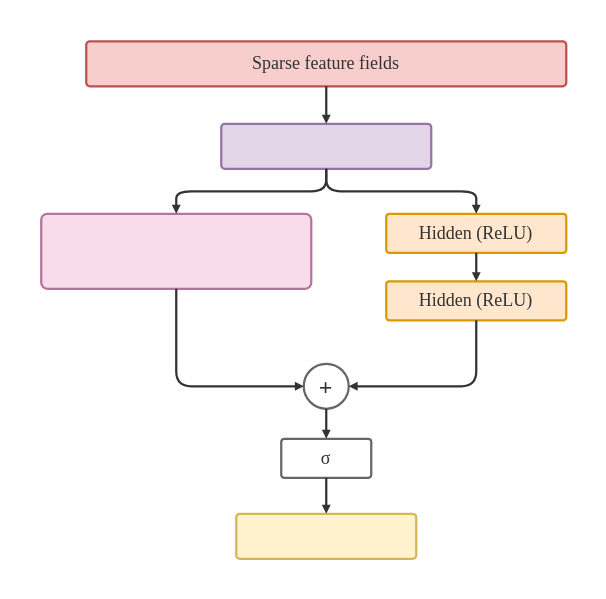
This 606x599 diagram has some shape labels left out. Here are the shapes that lost their labels. From the top down, the centre of each, then its label:
At pixel 325 145: "Shared embeddings".
At pixel 175 250: "FM layer ⟨w, x⟩ + Σ i<j ⟨v i , v j ⟩ x i x j".
At pixel 325 535: "CTR ŷ".
